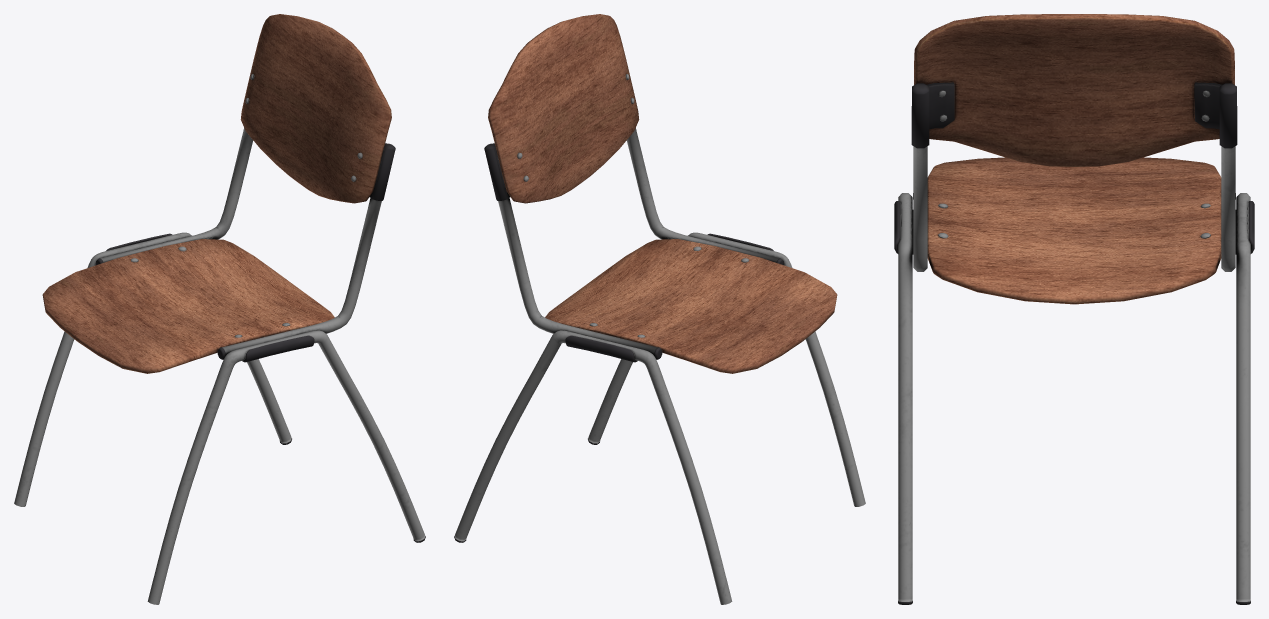
Rendered from school_chair.fbx.
The picture shows the model from 3 angles, left to right: view 1: azimuth 30°, elevation 25°; view 2: azimuth 150°, elevation 25°; view 3: azimuth 270°, elevation 25°; orthographic projection. The views are drawn at different scales.
Parts seen in each view (by area): view 1: school_chair; view 2: school_chair; view 3: school_chair.
Part boxes in pixels (left/top/right/bottom): school_chair: left=14, top=14, right=425, bottom=604; school_chair: left=454, top=14, right=865, bottom=604; school_chair: left=894, top=14, right=1254, bottom=604.
Bounding box in the file's own units: 0.5575 × 0.8766 × 0.4909.
